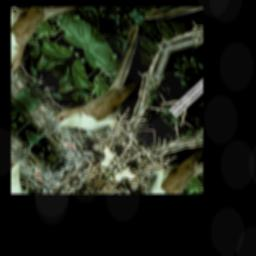Cuckoo: (35, 23, 179, 162)
